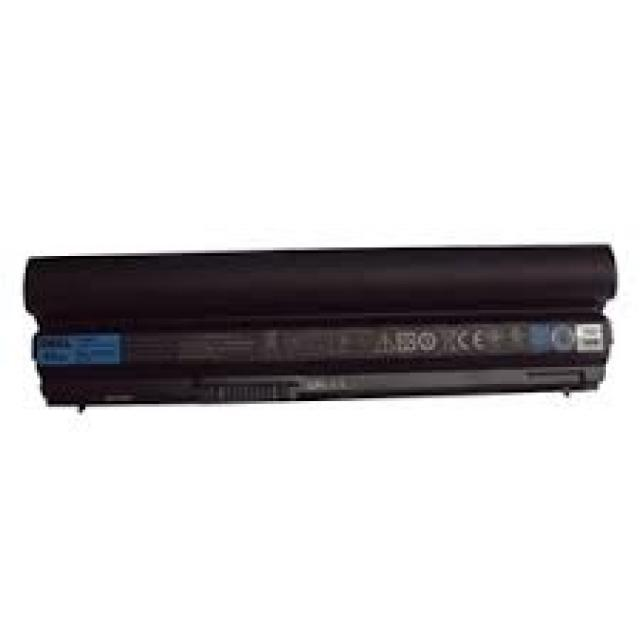battery: (22, 246, 620, 415)
